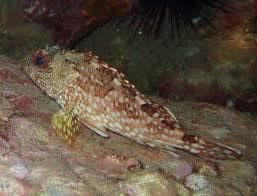saba: (14, 35, 244, 166)
